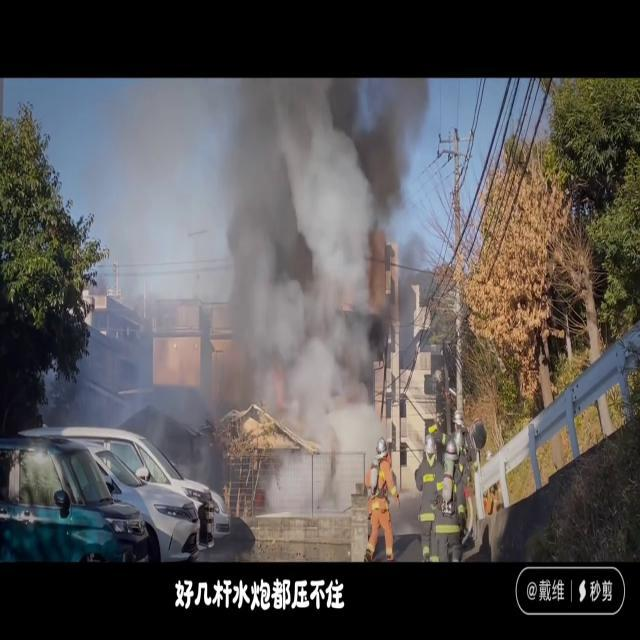Smoke: (190, 79, 430, 468)
